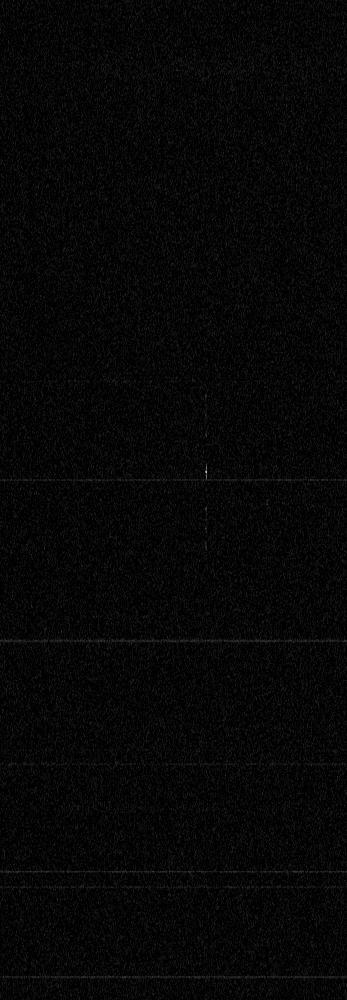signal: (0, 0, 346, 999)
